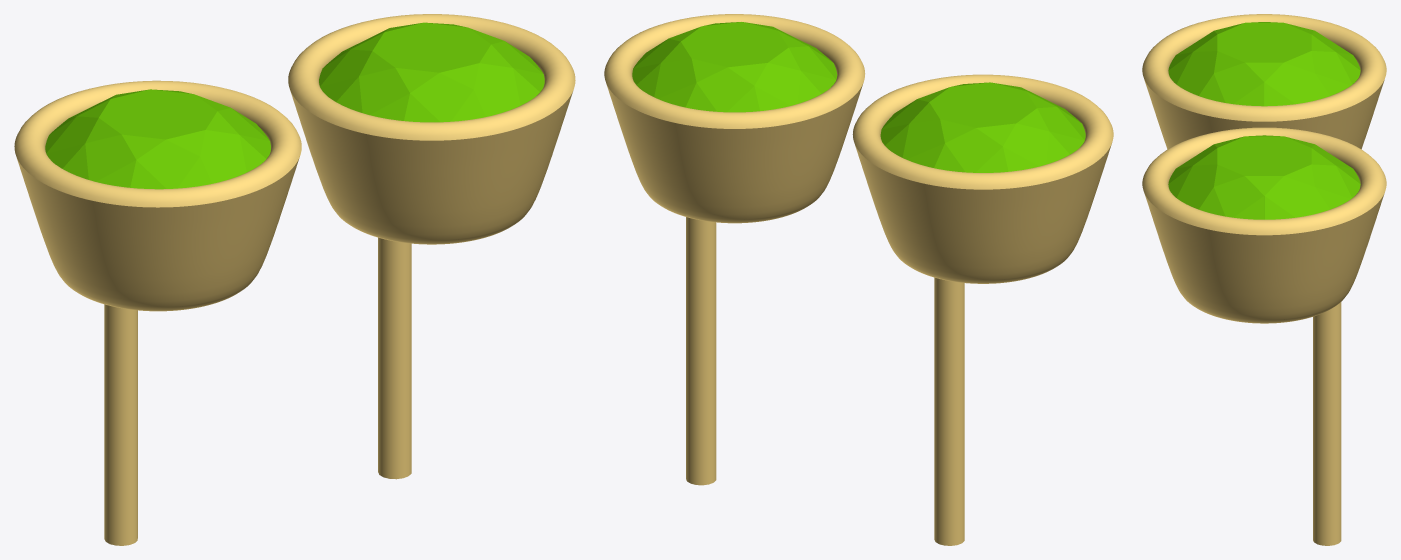
File: DevonGreenSapphearrings.glb
3 views of the same model, side by side, from view 1: azimuth 30°, elevation 25°; view 2: azimuth 150°, elevation 25°; view 3: azimuth 270°, elevation 25° (orthographic). The views are drawn at different scales.
Visible parts, largest first — view 1: Devon YG for 3d model, Devon green sapph for 3d model.001, Devon green sapph for 3d model; view 2: Devon YG for 3d model, Devon green sapph for 3d model, Devon green sapph for 3d model.001; view 3: Devon YG for 3d model, Devon green sapph for 3d model, Devon green sapph for 3d model.001.
Boxes of the visible parts, box(x1,y1,x2,y2) form: Devon YG for 3d model: box(14, 14, 575, 545); Devon green sapph for 3d model.001: box(319, 22, 544, 122); Devon green sapph for 3d model: box(45, 89, 270, 189); Devon YG for 3d model: box(604, 14, 1113, 545); Devon green sapph for 3d model: box(880, 82, 1085, 172); Devon green sapph for 3d model.001: box(632, 22, 837, 112); Devon YG for 3d model: box(1142, 14, 1386, 545); Devon green sapph for 3d model: box(1168, 22, 1360, 106); Devon green sapph for 3d model.001: box(1168, 135, 1360, 219).
Size of the model in its own units: 16.02 by 13.22 by 7.63.
